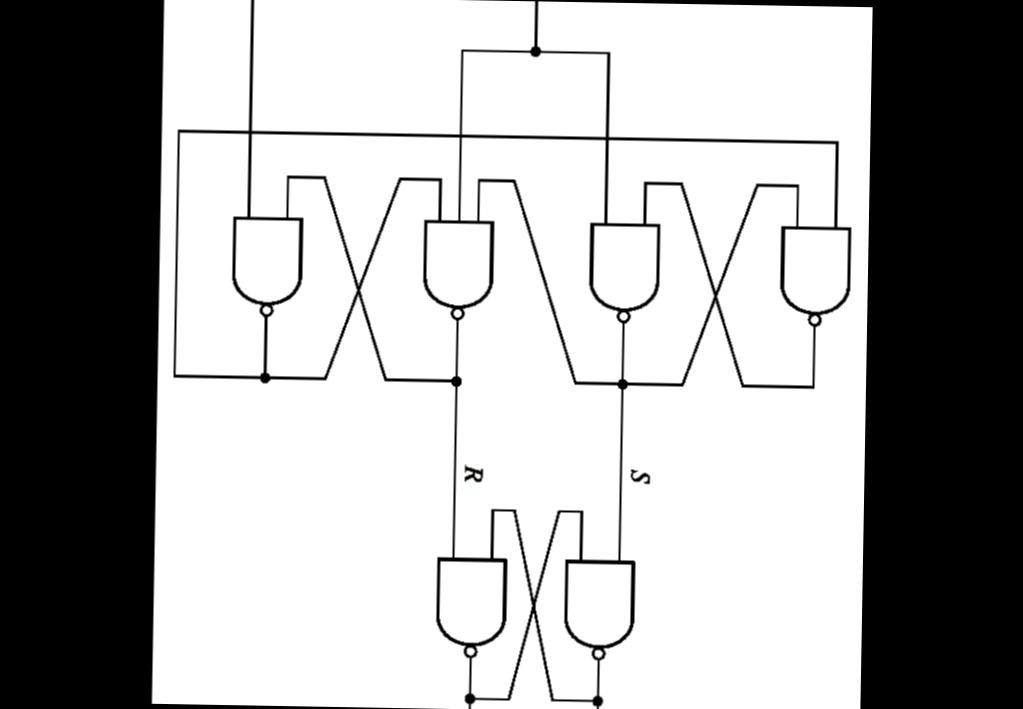nand: (574, 200, 676, 340), (219, 196, 312, 336), (412, 196, 502, 338), (421, 542, 516, 674), (769, 211, 861, 343), (552, 544, 645, 671)
